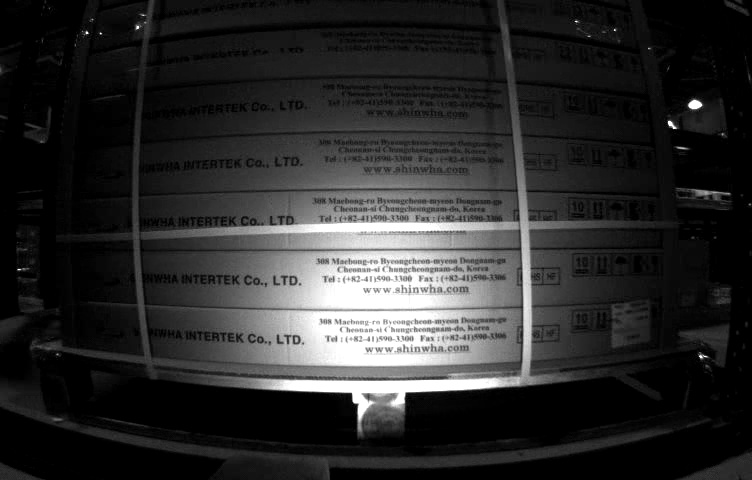True Barcode: (612, 297, 651, 348)
